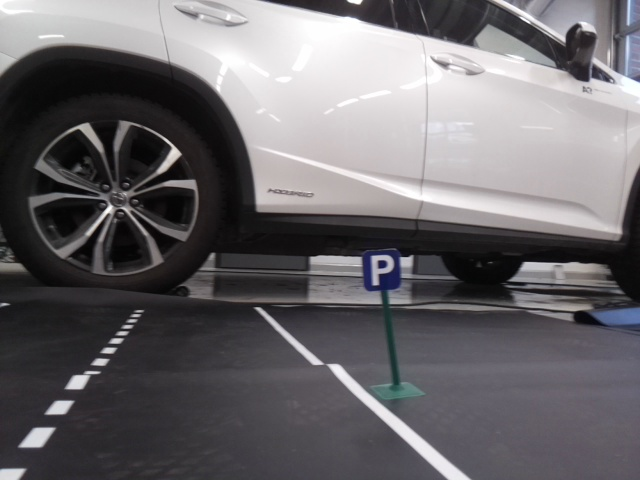Parking: (361, 249, 400, 290)
